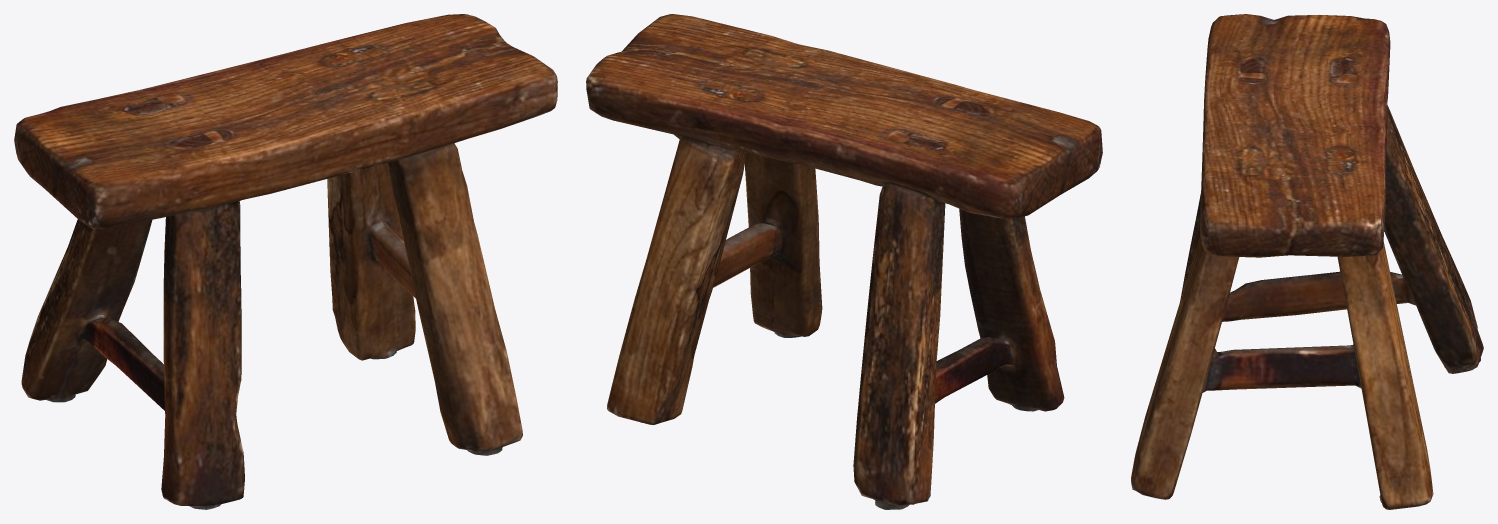
Rendered from wooden_stool_02.glb.
3 renders of one model, left to right at view 1: azimuth 30°, elevation 25°; view 2: azimuth 150°, elevation 25°; view 3: azimuth 270°, elevation 25°, orthographic. The views are drawn at different scales.
Visible parts, largest first — view 1: wooden_stool_02; view 2: wooden_stool_02; view 3: wooden_stool_02.
Boxes of the visible parts, left/top/right/bottom form: wooden_stool_02: left=14, top=14, right=557, bottom=509; wooden_stool_02: left=586, top=14, right=1102, bottom=509; wooden_stool_02: left=1131, top=14, right=1483, bottom=509.
Bounding box in the file's own units: 0.2652 × 0.1819 × 0.1831.
1 material, 1 textured.
